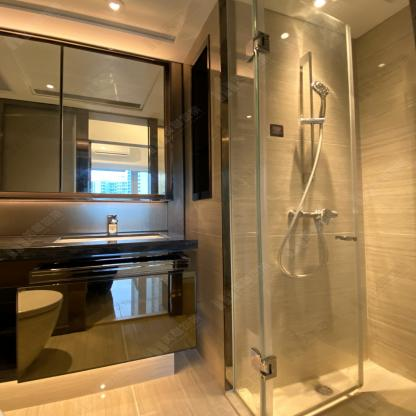Toilet Sink: (33, 231, 198, 260)
Water Cubicle: (226, 0, 416, 416)
